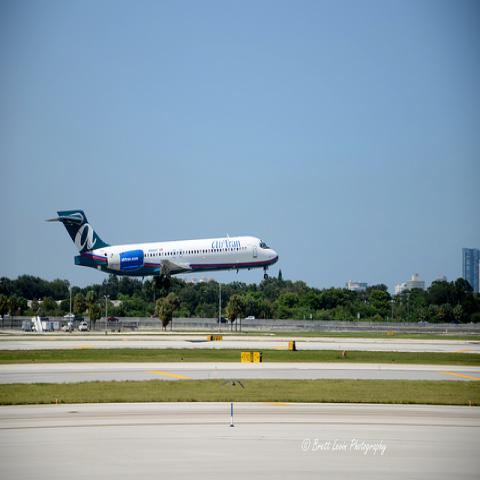car: (78, 321, 88, 332), (216, 317, 228, 323), (106, 316, 118, 321), (244, 316, 256, 319)
truck: (50, 321, 59, 332), (42, 322, 50, 330), (32, 322, 38, 332)
